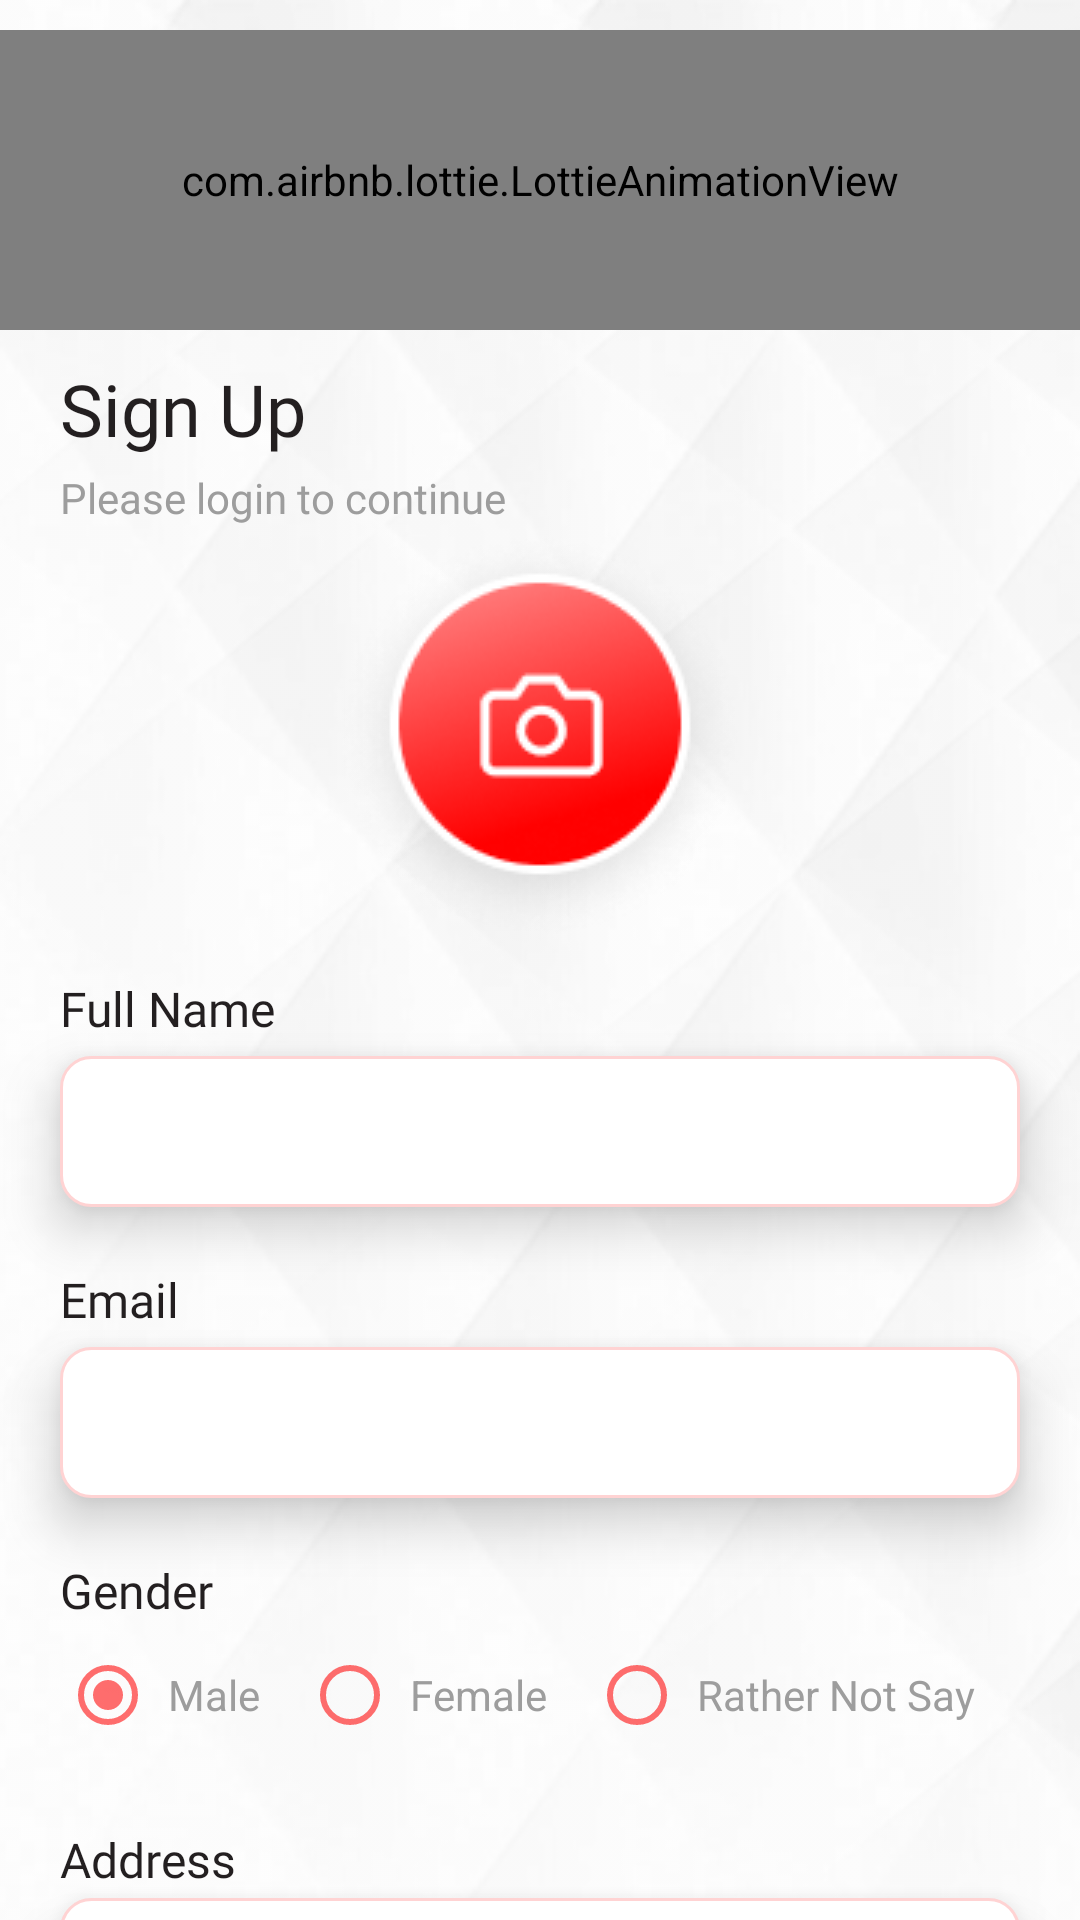

Icons on this 1080x1920 Android screen, each with its box as (x1, y1, x2, y2):
im camera: (398, 582, 682, 877)
